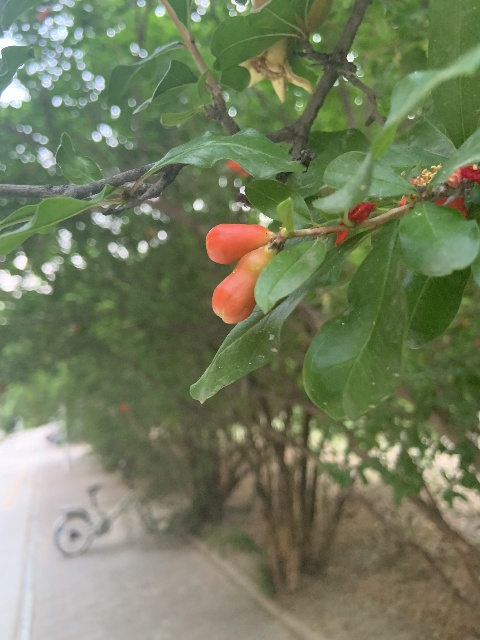bud: (212, 246, 275, 325), (205, 222, 272, 265)
early-fruit: (238, 0, 334, 103)
